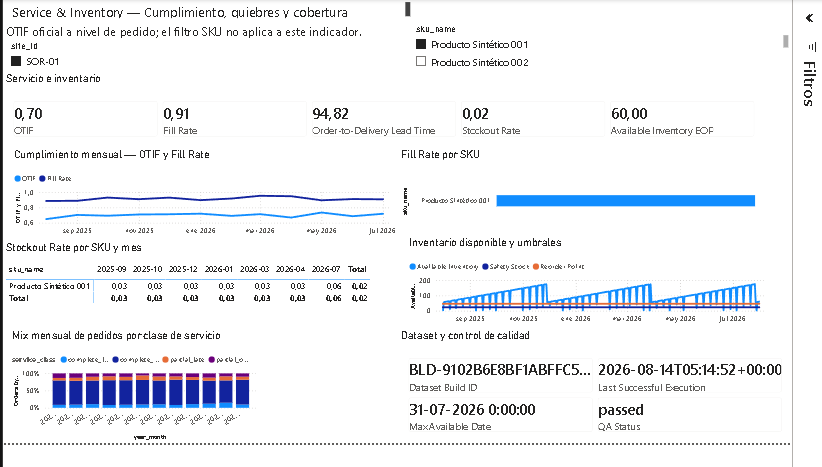

Layout of this report page (visuals, bound fields, positions):
{"tool":"powerbi","page":{"name":"Service & Inventory","canvas":[1280,720],"ordinal":2},"visuals":[{"type":"textbox","box":[9.7,0,656.2,35.6],"z":0},{"type":"textbox","box":[0,35.6,655.7,55.7],"z":1000},{"type":"slicer","fields":{"Values":["dim_operational_site.site_id"]},"box":[0,63,827.1,67.1],"z":2000},{"type":"slicer","fields":{"Values":["dim_product.sku_name"]},"box":[657.8,35.6,622.2,82.4],"z":3000},{"type":"cardVisual","title":"Servicio e inventario","fields":{"Data":["_Measures.OTIF","_Measures.Fill Rate","_Measures.Order-to-Delivery Lead Time","_Measures.Stockout Rate","_Measures.Available Inventory EOP"]},"box":[0,118.3,1236.4,122.8],"z":4000},{"type":"lineChart","title":"Cumplimiento mensual — OTIF y Fill Rate","fields":{"Category":["dim_date.month_start"],"Y":["_Measures.OTIF","_Measures.Fill Rate"]},"box":[13,241.4,628.7,150.3],"z":5000},{"type":"clusteredBarChart","title":"Fill Rate por SKU","fields":{"Category":["dim_product.sku_name"],"Y":["_Measures.Fill Rate"]},"box":[641.6,241.4,623.8,134.1],"z":6000},{"type":"pivotTable","title":"Stockout Rate por SKU y mes","fields":{"Rows":["dim_product.sku_name"],"Columns":["dim_date.year_month"],"Values":["_Measures.Stockout Rate"]},"box":[0,392.1,640,114.7],"z":7000},{"type":"lineChart","title":"Inventario disponible y umbrales","fields":{"Category":["dim_date.date"],"Y":["_Measures.Available Inventory","_Measures.Safety Stock","_Measures.Reorder Point"]},"box":[654.6,384,598,150.3],"z":8000},{"type":"hundredPercentStackedColumnChart","title":"Mix mensual de pedidos por clase de servicio","fields":{"Category":["dim_date.year_month"],"Series":["fact_orders.service_class"],"Y":["_Measures.Orders by Promised Date"]},"box":[9.7,534.9,405.7,185.9],"z":8001},{"type":"cardVisual","title":"Dataset y control de calidad","fields":{"Data":["_Measures.Dataset Build ID","_Measures.Last Successful Execution","_Measures.Max Available Date","_Measures.QA Status"]},"box":[640,534.7,640,184.7],"z":8002}]}

Visuals, with their boxes on the page's 1280x720 design canvas (x1, y1, x2, y2). These are canvas units, not pixel positions in the 822x467 screenshot, which may show the page scaled, cropped or inside an application window:
textbox: detection(10, 0, 666, 36)
textbox: detection(0, 36, 656, 91)
slicer - dim_operational_site.site_id: detection(0, 63, 827, 130)
slicer - dim_product.sku_name: detection(658, 36, 1280, 118)
"Servicio e inventario" cardVisual: detection(0, 118, 1236, 241)
"Cumplimiento mensual — OTIF y Fill Rate" lineChart: detection(13, 241, 642, 392)
"Fill Rate por SKU" clusteredBarChart: detection(642, 241, 1265, 376)
"Stockout Rate por SKU y mes" pivotTable: detection(0, 392, 640, 507)
"Inventario disponible y umbrales" lineChart: detection(655, 384, 1253, 534)
"Mix mensual de pedidos por clase de servicio" hundredPercentStackedColumnChart: detection(10, 535, 415, 721)
"Dataset y control de calidad" cardVisual: detection(640, 535, 1280, 719)
